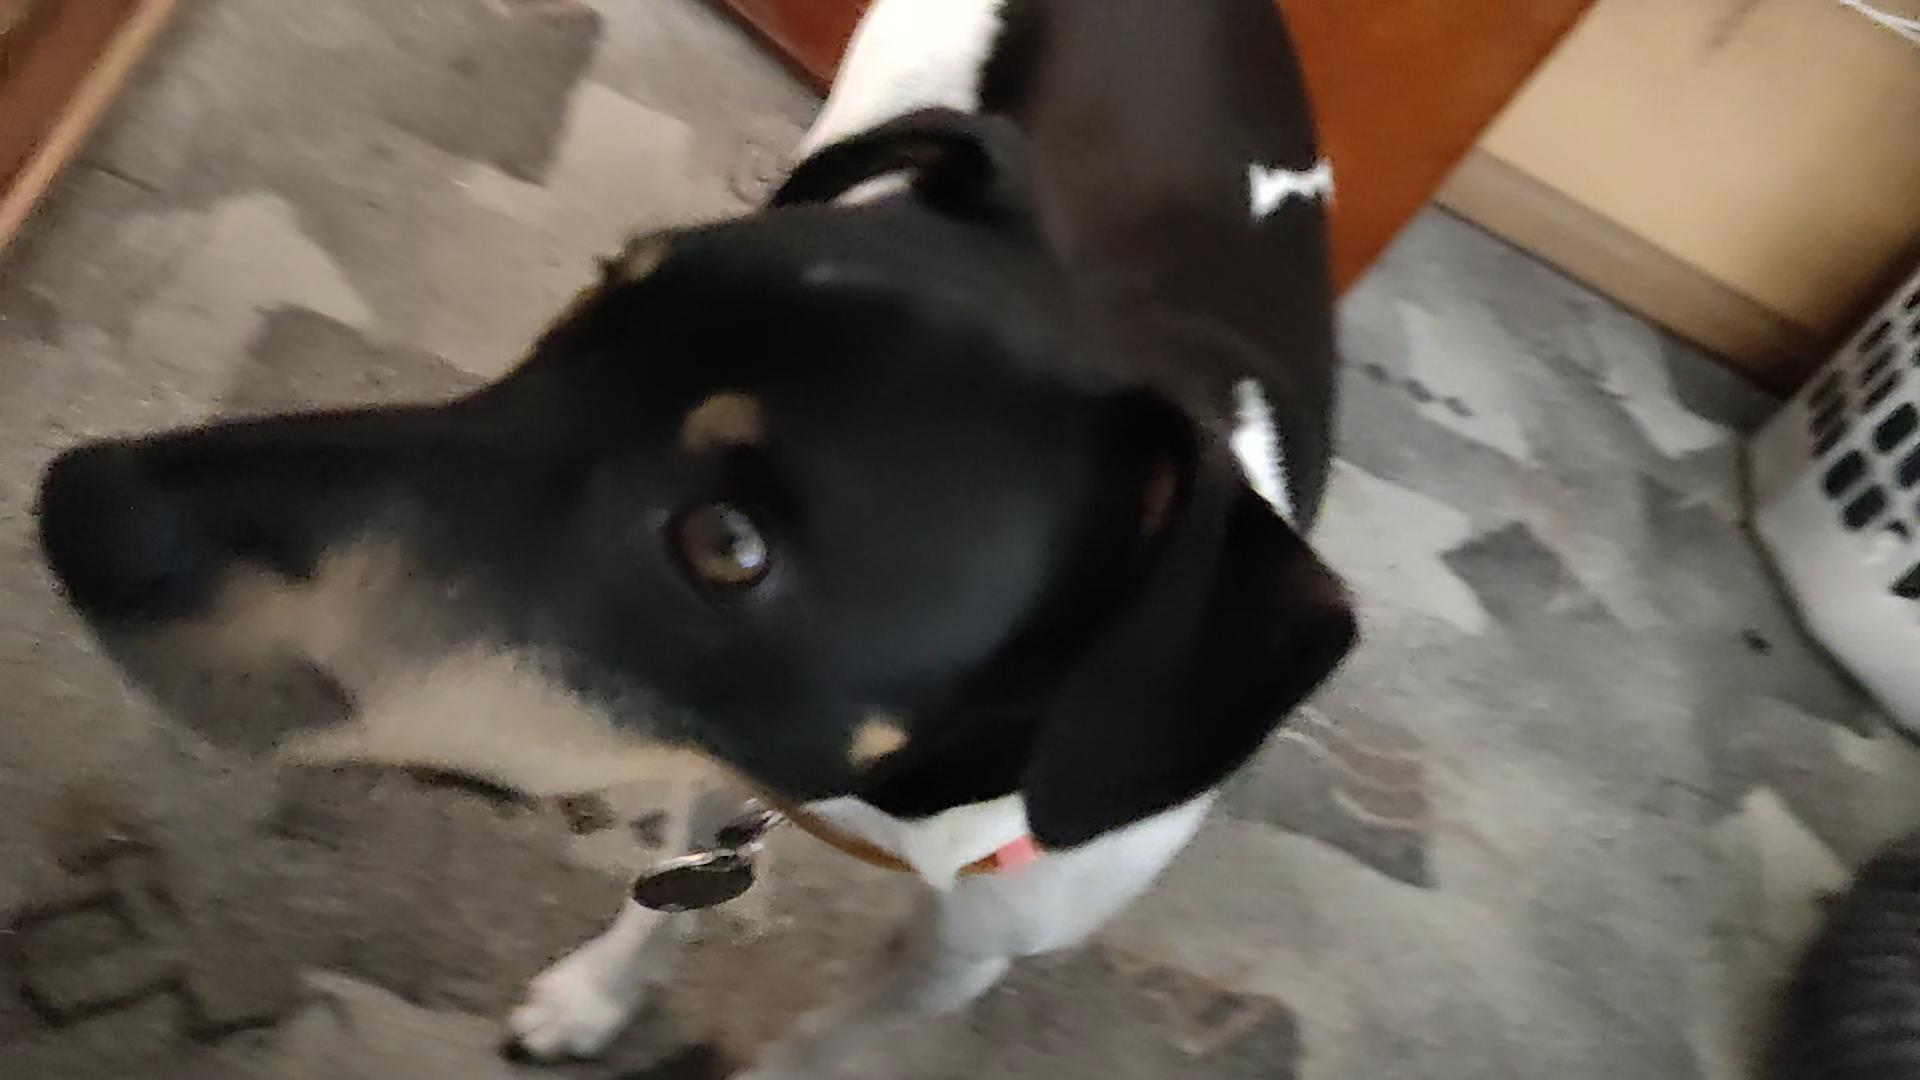Dog: (32, 0, 1375, 1079)
